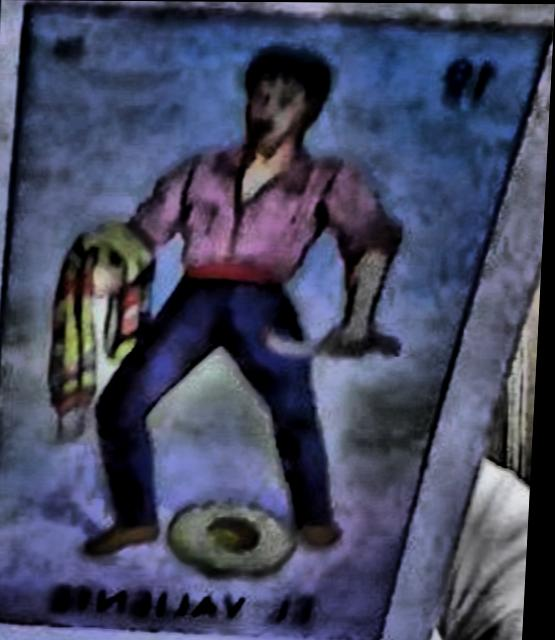El Valiente: (0, 6, 549, 639)
